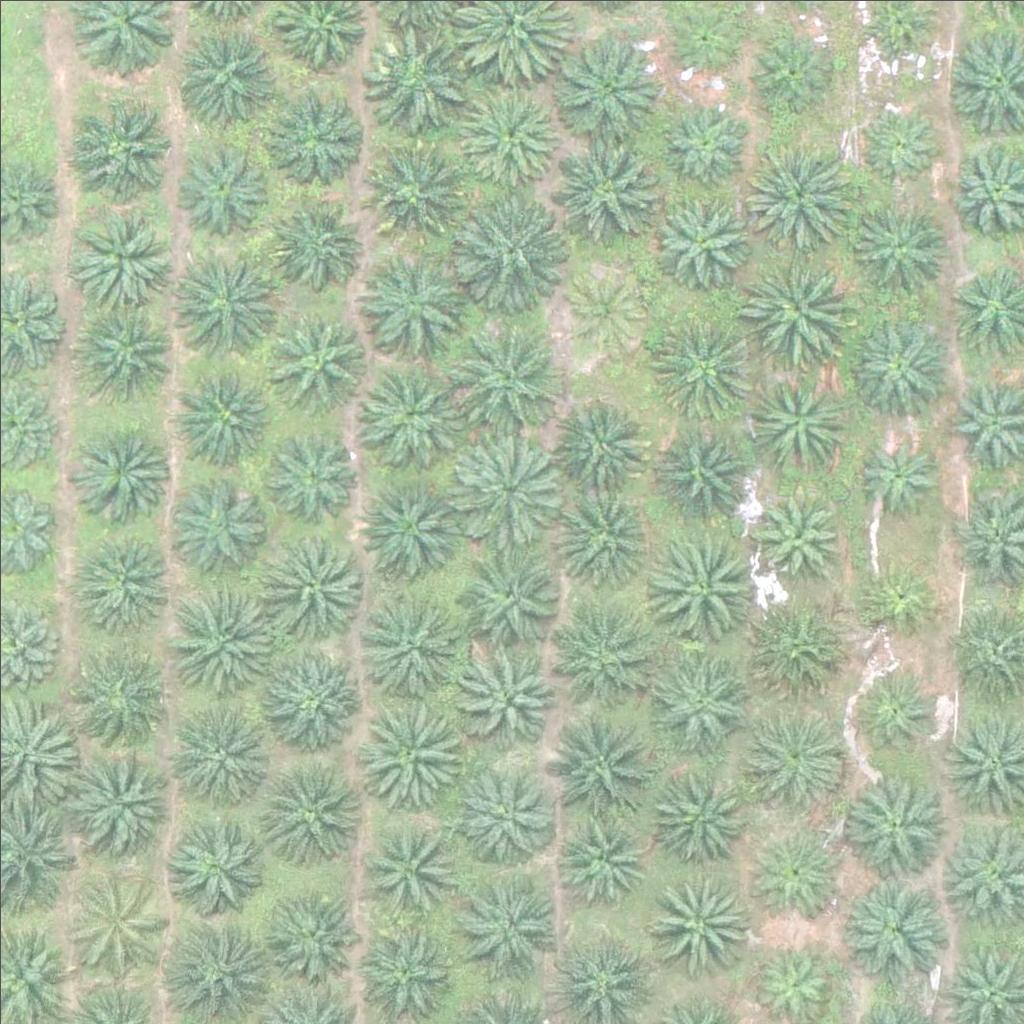Kelapa_Sawit: (454, 317, 567, 431), (653, 532, 766, 645), (354, 694, 467, 807), (162, 587, 275, 700), (361, 25, 474, 138), (454, 192, 567, 305), (744, 139, 857, 252), (743, 251, 856, 364), (447, 876, 559, 990), (157, 696, 269, 810), (734, 705, 846, 818), (545, 705, 657, 818), (454, 433, 566, 546), (353, 590, 465, 703), (54, 748, 166, 861), (167, 247, 279, 360), (646, 309, 758, 422), (548, 126, 660, 239), (553, 33, 665, 146), (846, 774, 946, 875), (734, 598, 834, 699), (651, 863, 751, 964), (652, 651, 752, 752), (661, 422, 761, 523), (558, 491, 658, 592), (548, 591, 648, 692), (454, 764, 554, 865), (457, 648, 557, 749), (359, 483, 459, 584), (357, 921, 457, 1022), (358, 817, 458, 918), (264, 760, 364, 861), (258, 652, 358, 753), (259, 527, 359, 628), (166, 475, 266, 576), (159, 816, 259, 917), (68, 870, 168, 971), (73, 640, 173, 741), (69, 525, 169, 626), (68, 417, 168, 518), (76, 207, 176, 308), (76, 295, 176, 396), (172, 363, 272, 464), (458, 83, 558, 184), (653, 189, 753, 290), (749, 370, 849, 471), (851, 310, 951, 411), (849, 197, 949, 298), (844, 877, 944, 977), (646, 766, 746, 866), (464, 542, 564, 642), (264, 883, 364, 983), (174, 15, 274, 115), (70, 98, 170, 198), (174, 139, 274, 239), (262, 94, 362, 194), (270, 314, 370, 414), (265, 198, 365, 298), (359, 365, 459, 465), (359, 248, 459, 348), (367, 135, 467, 235), (557, 395, 657, 495), (852, 559, 940, 647), (852, 672, 940, 760), (757, 491, 845, 579), (560, 264, 648, 352), (856, 97, 944, 185), (660, 98, 747, 187), (858, 427, 945, 515), (749, 828, 836, 916), (560, 819, 647, 907), (269, 431, 356, 519), (751, 25, 838, 113)
